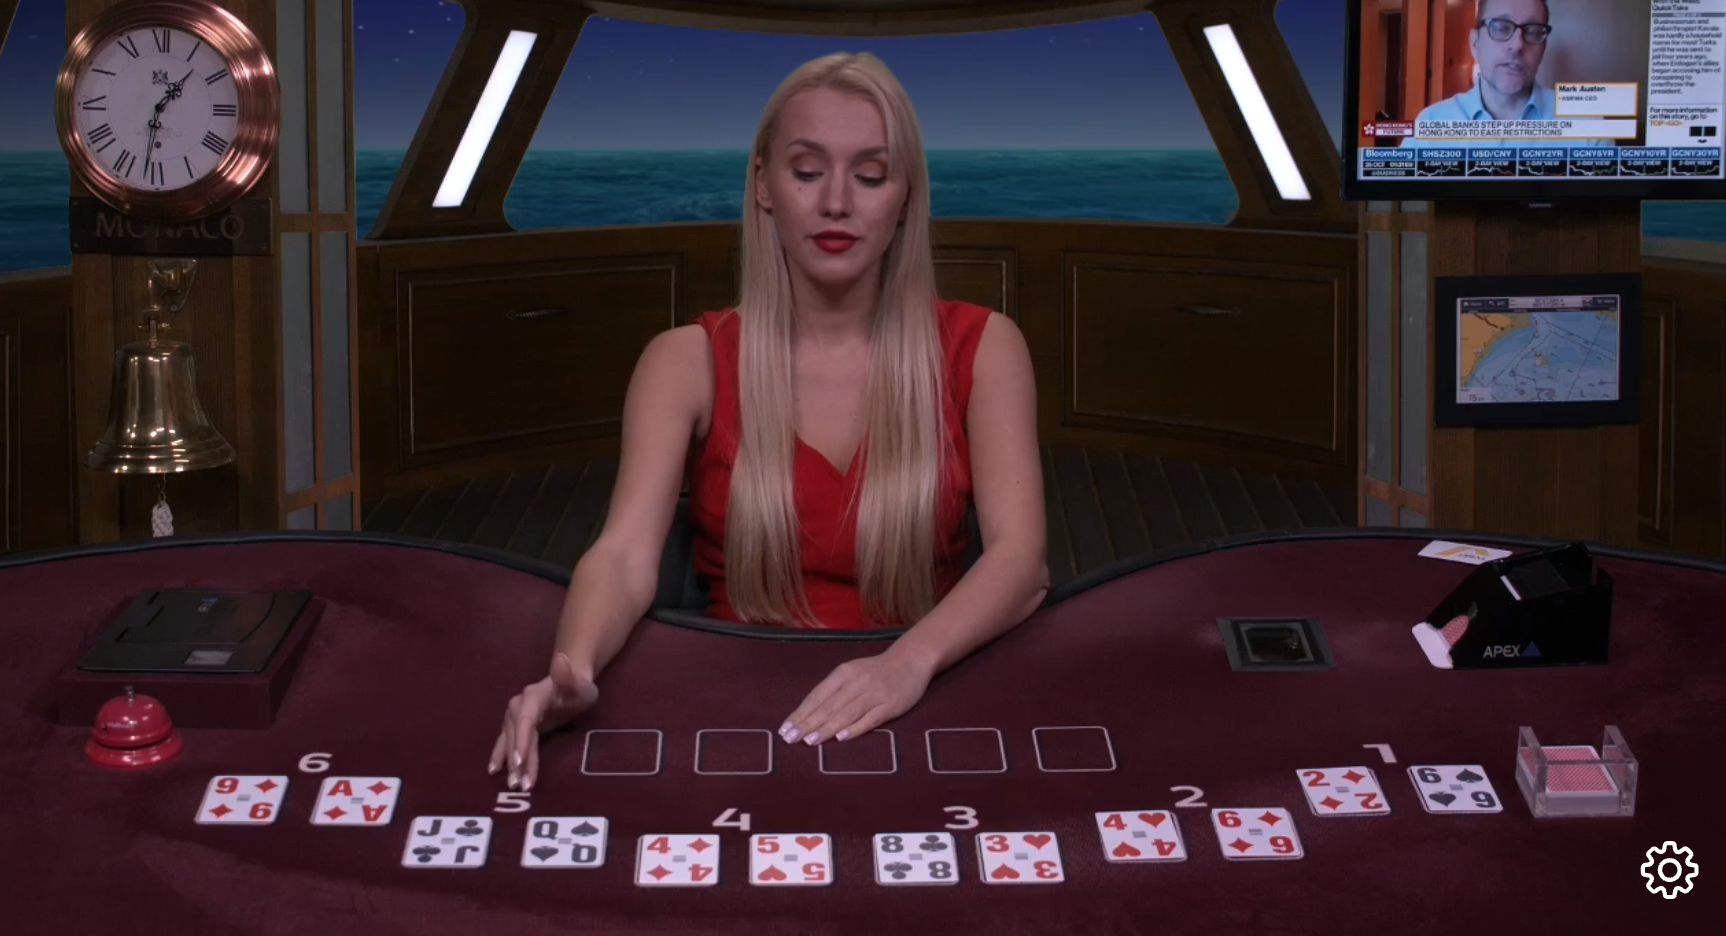2d: (1290, 760, 1396, 825)
3h: (972, 825, 1067, 892)
4d: (637, 826, 729, 895)
4h: (1092, 803, 1191, 865)
5h: (745, 826, 840, 888)
6d: (1203, 802, 1312, 866)
6s: (1402, 757, 1507, 818)
8c: (868, 828, 961, 889)
9d: (186, 764, 297, 828)
asd: (306, 770, 403, 833)
jc: (398, 809, 495, 871)
qs: (521, 810, 616, 870)
